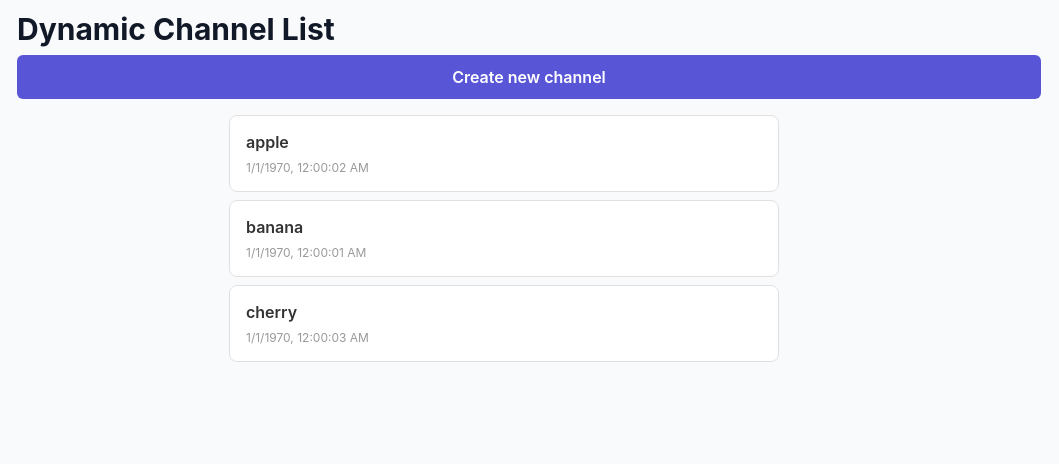
Test: Home Page Integration › should show retry button and allow retrying on error
Click the button "Create new channel" at (529, 77), box [17,55,1041,99]
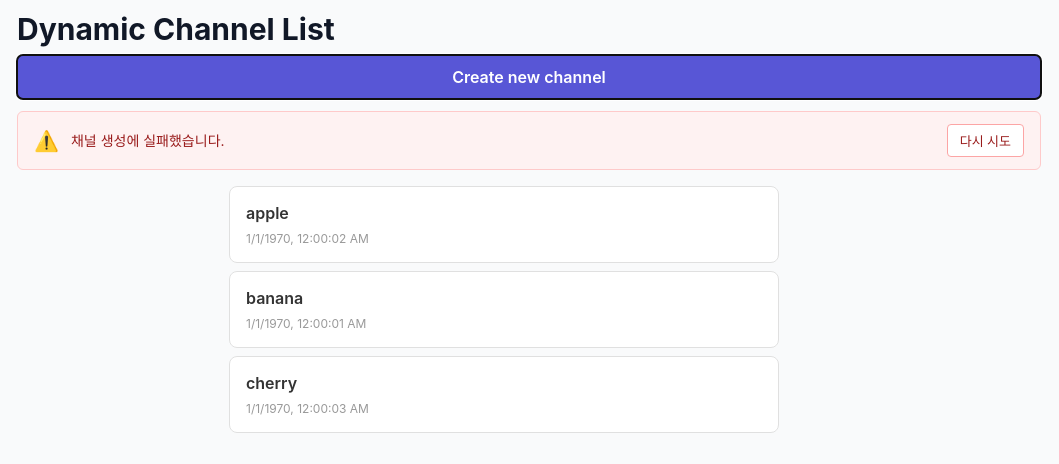
Check: the text "채널 생성에 실패했습니다." is shown, box [71,132,225,149]
Check: the button "다시 시도" is shown
Click the button "다시 시도" at (985, 140), box [947,124,1024,157]
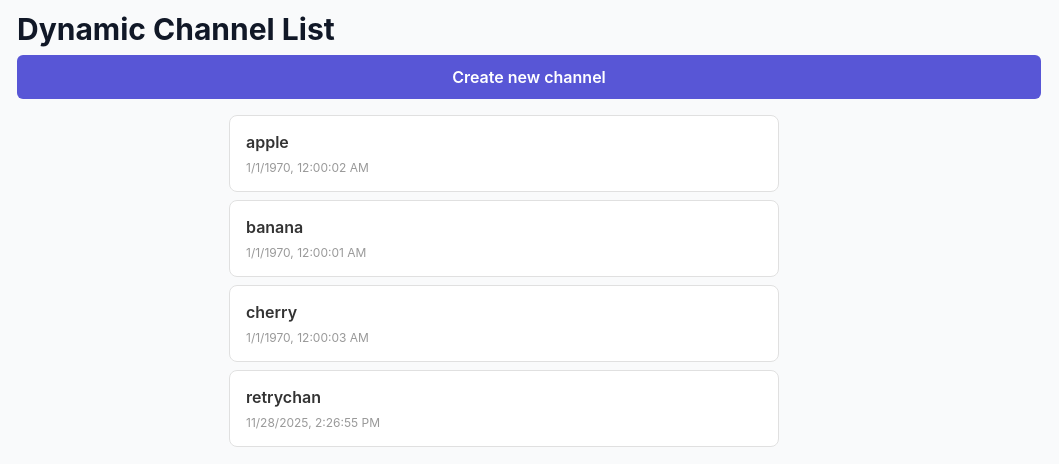
Check: the text "채널 생성에 실패했습니다" is gone
Check: the heading "retrychan" is shown, box [246,387,321,407]
